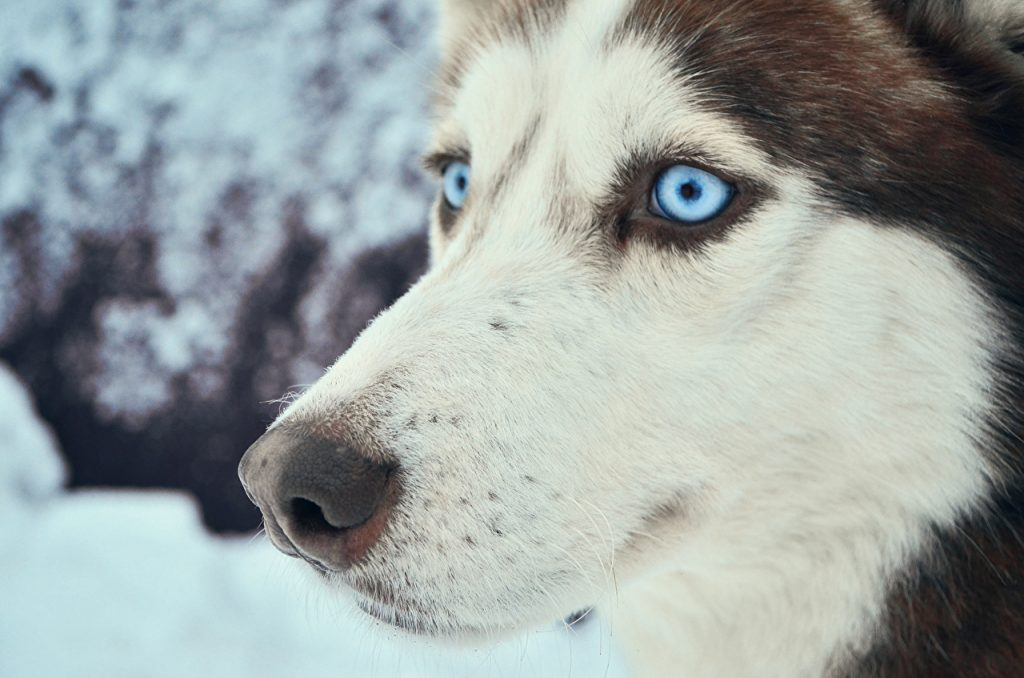husky: (226, 6, 1015, 667)
